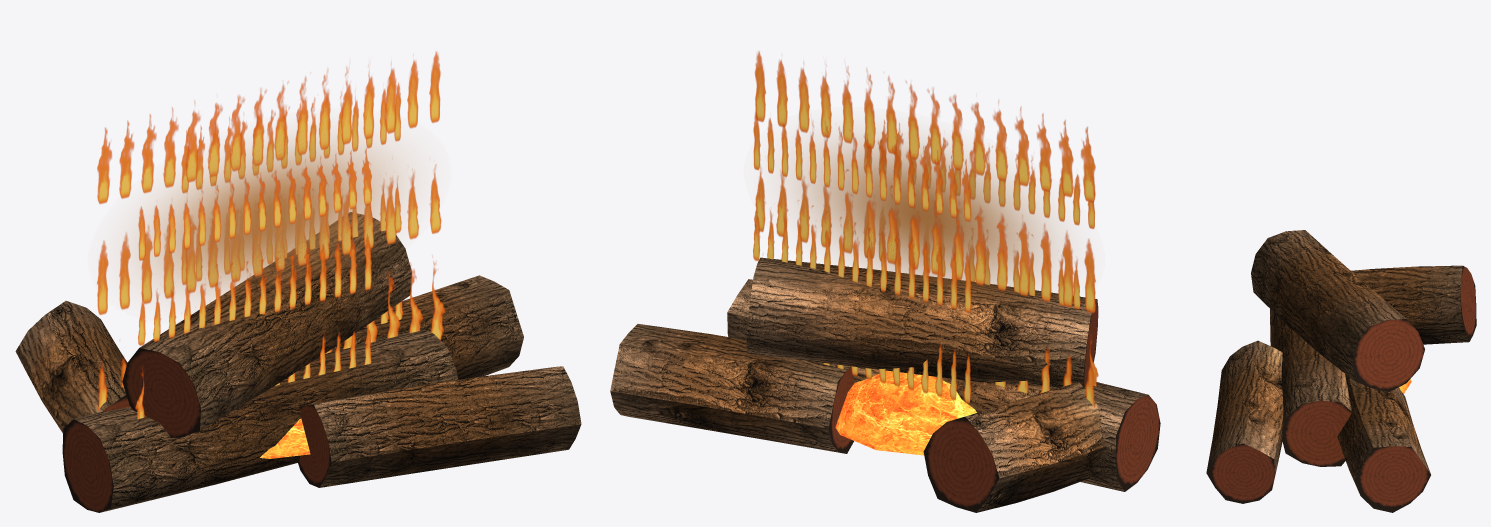
The model's file is mm7_deco_v77dec24.glb.
3 views of the same model, side by side, from view 1: azimuth 30°, elevation 25°; view 2: azimuth 150°, elevation 25°; view 3: azimuth 270°, elevation 25° (orthographic). The views are drawn at different scales.
Parts seen in each view (by area): view 1: LitFire; view 2: LitFire; view 3: LitFire.
Boxes of the visible parts, x1=… form: LitFire: x1=15, y1=51, x2=581, y2=512; LitFire: x1=610, y1=51, x2=1160, y2=512; LitFire: x1=1206, y1=230, x2=1476, y2=512.
Size of the model in its own units: 0.902 by 0.6326 by 0.5121.
Materials: 7 (7 with a texture image).
